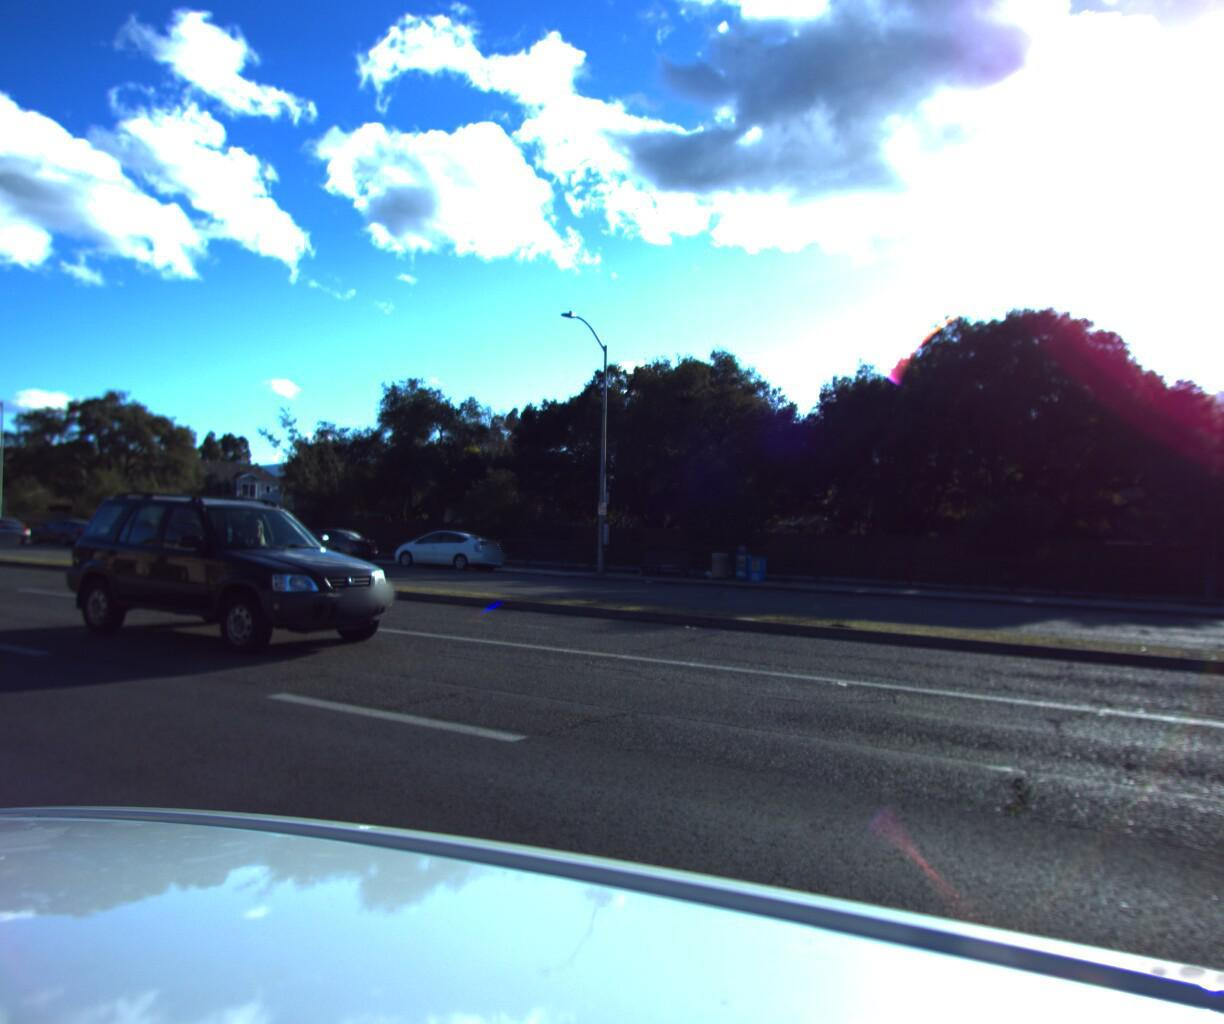car: (37, 465, 431, 663), (384, 520, 511, 570), (271, 519, 386, 562), (24, 511, 112, 542)
